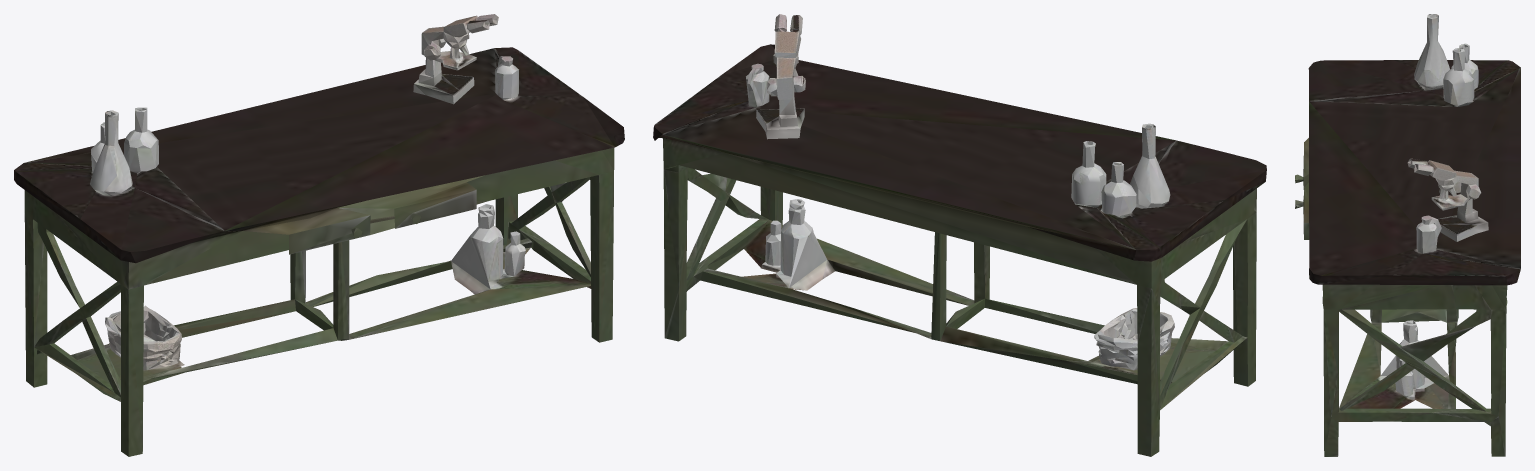
Rendered from mesa-laboratorio.glb.
3 renders of one model, left to right at view 1: azimuth 30°, elevation 25°; view 2: azimuth 150°, elevation 25°; view 3: azimuth 270°, elevation 25°, orthographic. The views are drawn at different scales.
Size of the model in its own units: 1.9 by 1.09 by 0.8431.
1 material, 1 textured.
